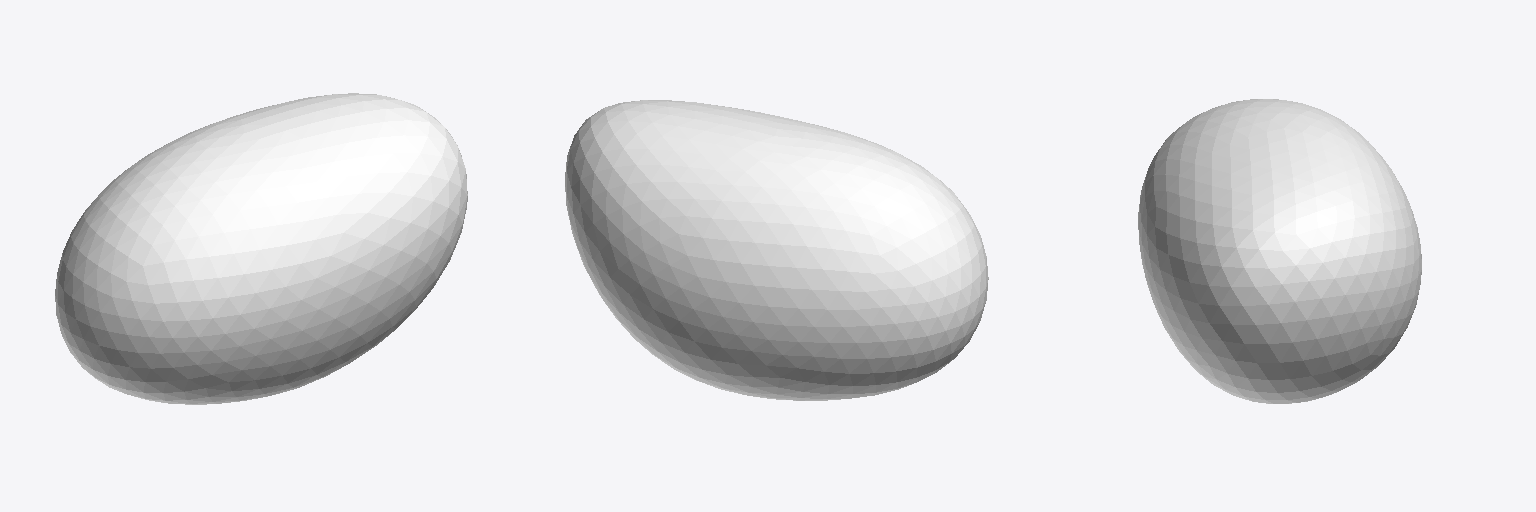
The model's file is colorkartoshka.obj.
The picture shows the model from 3 angles: view 1: azimuth 30°, elevation 25°; view 2: azimuth 150°, elevation 25°; view 3: azimuth 270°, elevation 25°; orthographic projection.
Visible parts, largest first — view 1: GeoSphere001; view 2: GeoSphere001; view 3: GeoSphere001.
Boxes of the visible parts, box(x1,y1,x2,y2) form: GeoSphere001: box(55, 93, 467, 404); GeoSphere001: box(565, 100, 988, 400); GeoSphere001: box(1138, 99, 1421, 403).
Size of the model in its own units: 139 by 84.85 by 87.36.